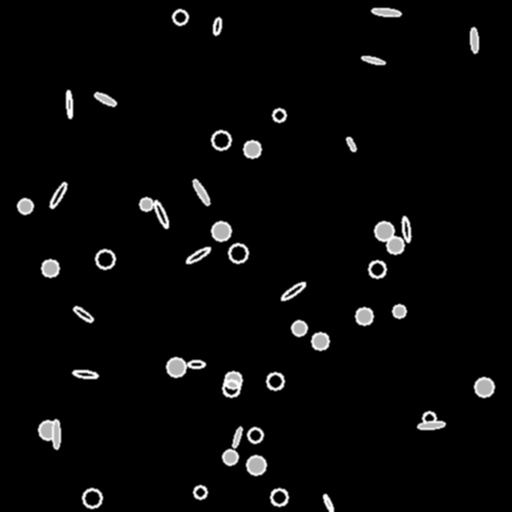pseudomonas: (279, 280, 307, 302), (191, 178, 211, 206), (48, 181, 68, 209), (152, 199, 170, 229), (185, 245, 211, 265), (72, 305, 94, 323), (93, 91, 117, 107), (371, 7, 401, 17), (72, 369, 98, 379), (401, 217, 411, 241), (361, 55, 385, 65), (322, 493, 334, 512), (52, 420, 60, 448), (417, 421, 445, 429), (470, 27, 478, 53), (232, 427, 242, 447), (345, 136, 357, 152), (212, 17, 222, 35), (66, 90, 72, 118), (187, 361, 204, 367)
synechocystis: (212, 222, 230, 240), (247, 456, 265, 474), (212, 131, 230, 149), (375, 222, 393, 240), (96, 250, 114, 268), (167, 358, 185, 376), (83, 489, 101, 507), (229, 244, 247, 262), (475, 378, 493, 396), (39, 421, 57, 439), (244, 141, 260, 157), (369, 261, 385, 277), (387, 237, 403, 253), (312, 333, 328, 349), (271, 489, 287, 505), (225, 372, 241, 388), (42, 260, 58, 276), (223, 380, 239, 396), (267, 373, 283, 389), (356, 308, 372, 324), (223, 450, 237, 464), (18, 199, 32, 213), (292, 321, 306, 335), (248, 428, 262, 442), (173, 10, 187, 24), (393, 305, 405, 317), (423, 412, 435, 424), (273, 109, 285, 121), (194, 486, 206, 498), (140, 198, 152, 210)
